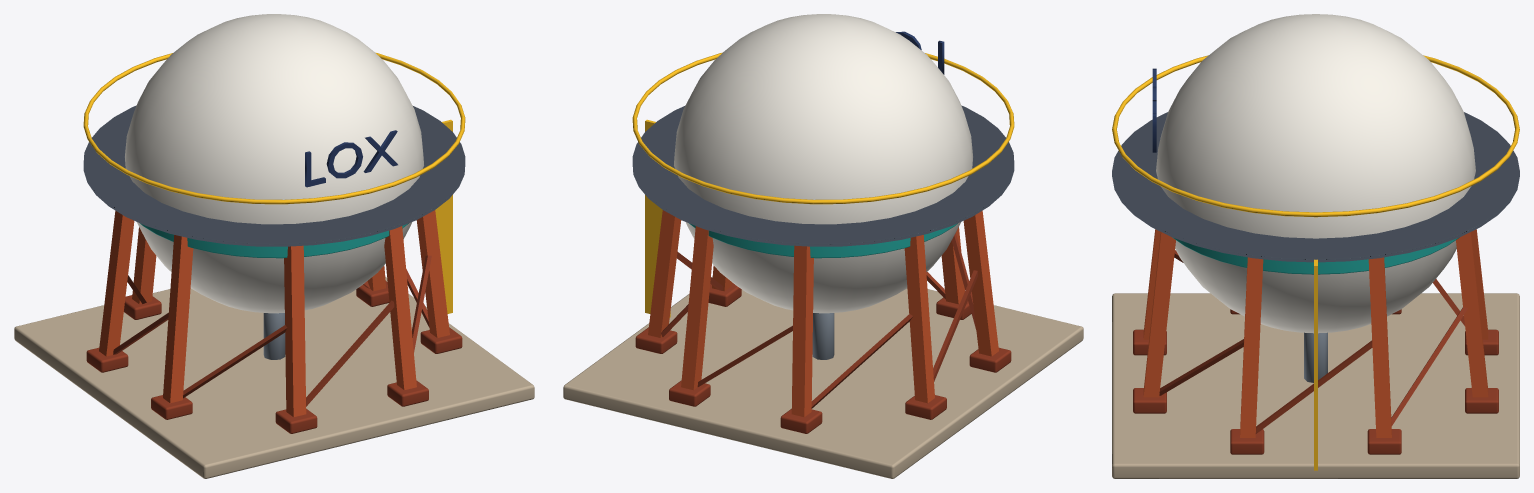
Rendered from dune_tank_sphere.glb.
The picture shows the model from 3 angles, left to right: view 1: azimuth 30°, elevation 25°; view 2: azimuth 150°, elevation 25°; view 3: azimuth 270°, elevation 25°; orthographic projection. The views are drawn at different scales.
Visible parts, largest first — view 1: TankSphere; view 2: TankSphere; view 3: TankSphere.
Boxes of the visible parts, x1,y1,x2,y2 form: TankSphere: [14, 14, 534, 478]; TankSphere: [563, 14, 1083, 478]; TankSphere: [1112, 14, 1519, 478].
Size of the model in its own units: 8.7 by 8.31 by 8.4.
